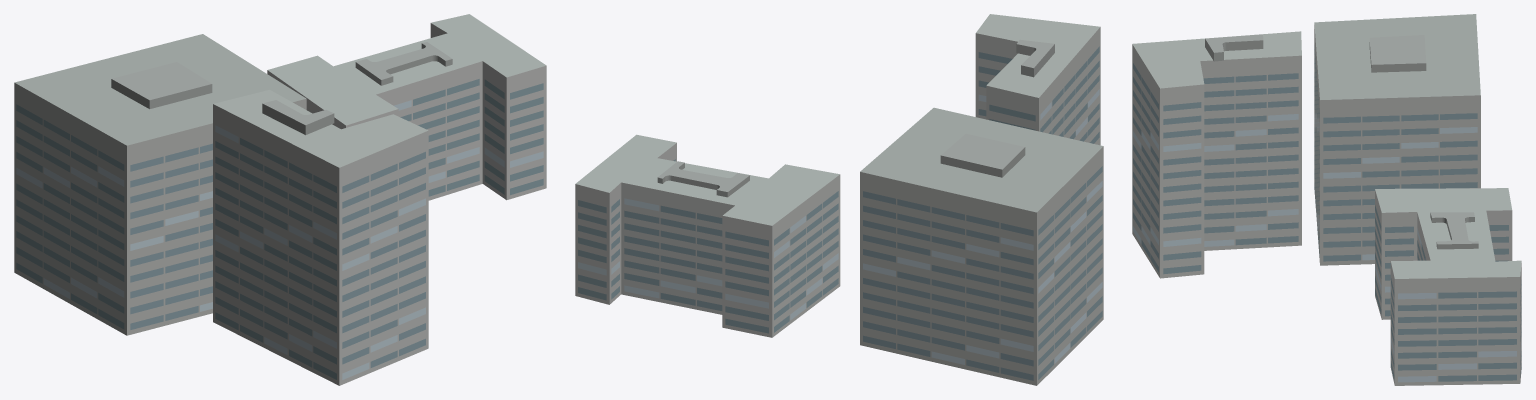
Rendered from apt-a41279925.glb.
3 views of the same model, side by side, from view 1: azimuth 30°, elevation 25°; view 2: azimuth 150°, elevation 25°; view 3: azimuth 270°, elevation 25° (orthographic). The views are drawn at different scales.
Visible parts, largest first — view 1: apt-a41279925; view 2: apt-a41279925; view 3: apt-a41279925.
Part boxes in pixels (x1,y1,x2,y2): apt-a41279925: (14,14,546,385); apt-a41279925: (575,14,1103,385); apt-a41279925: (1132,14,1521,385).
Bounding box in the file's own units: 123 × 55 × 97.74.
